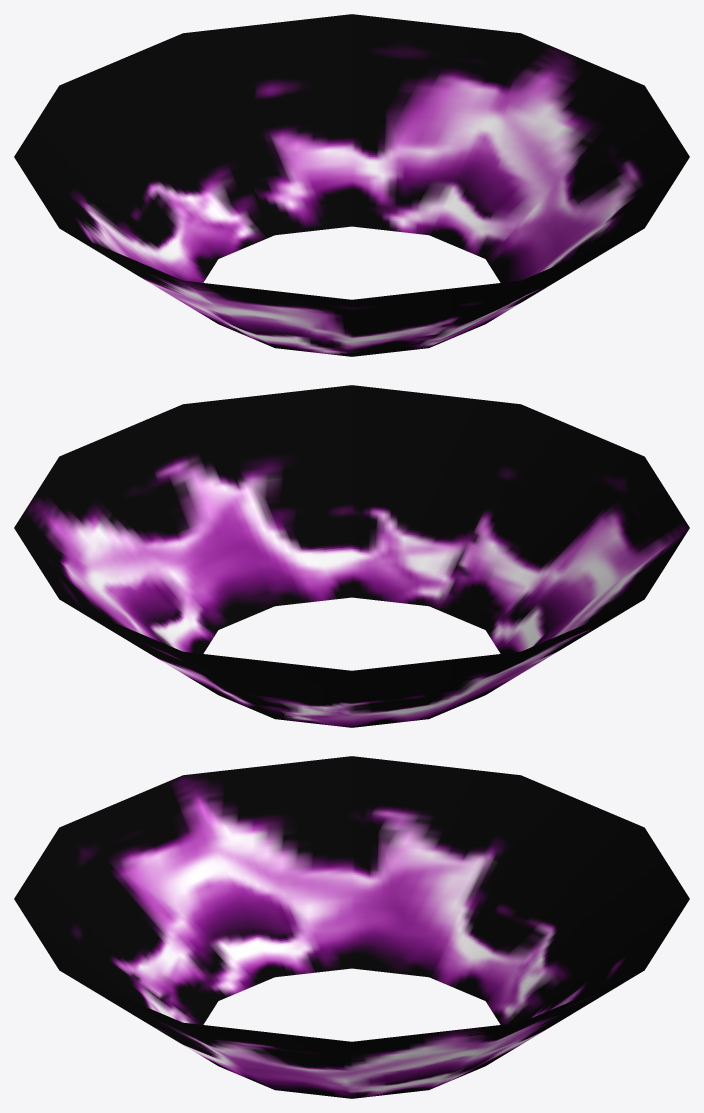
File: fx_fbx_skill_102_staff_powerattack_1.FBX
The picture shows the model from 3 angles, top to bottom: view 1: azimuth 30°, elevation 25°; view 2: azimuth 150°, elevation 25°; view 3: azimuth 270°, elevation 25°; orthographic projection.
Visible parts, largest first — view 1: Cylinder001; view 2: Cylinder001; view 3: Cylinder001.
Part boxes in pixels (<box>): Cylinder001: <box>14,14,689,356</box>; Cylinder001: <box>14,385,689,727</box>; Cylinder001: <box>14,756,689,1098</box>.
Bounding box in the file's own units: 379 × 379 × 83.25.
1 material, 1 textured.
